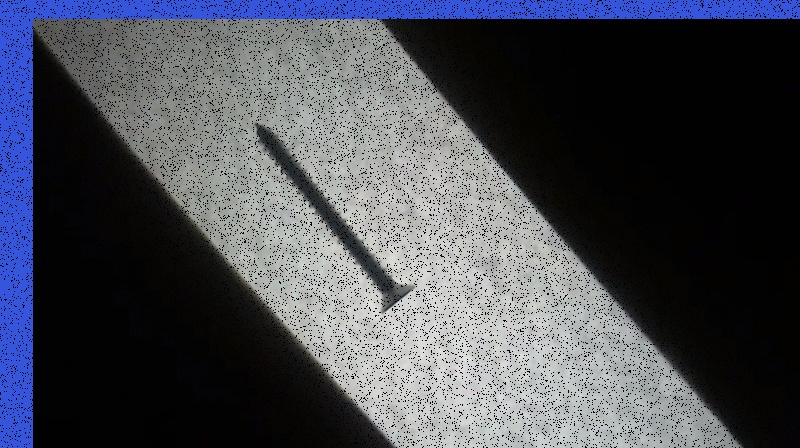S002: (247, 116, 419, 315)
